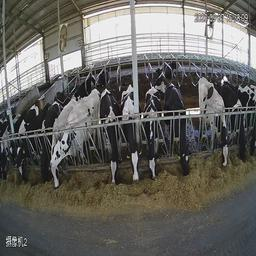cow: (50, 77, 116, 207), (162, 76, 201, 191), (197, 69, 236, 176), (98, 83, 128, 201), (219, 68, 251, 170), (9, 89, 38, 184), (118, 70, 138, 204), (35, 82, 55, 200), (142, 79, 161, 196), (150, 57, 170, 92), (86, 61, 111, 88), (162, 54, 181, 81)
